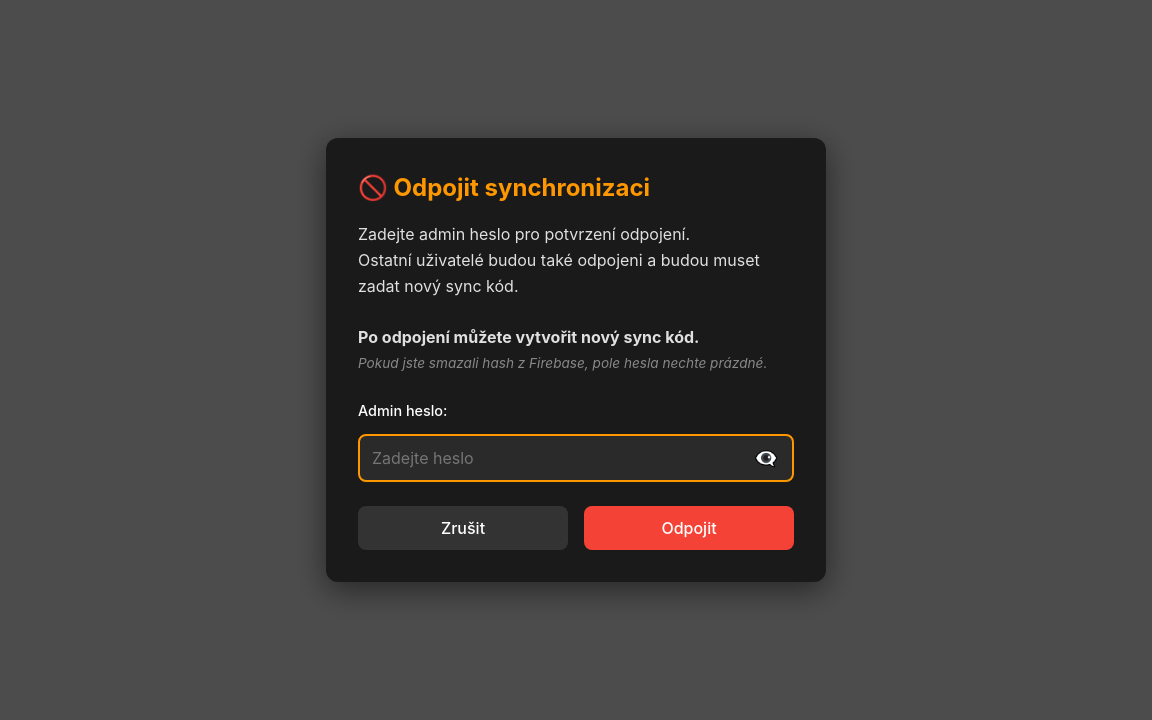
Scenario: DisconnectModal › should disable buttons while processing
This screenshot has width=1152, height=720.
Type "admin123" into the password field with placeholder "Zadejte heslo". click: [576, 458]
box: [358,434,794,482]
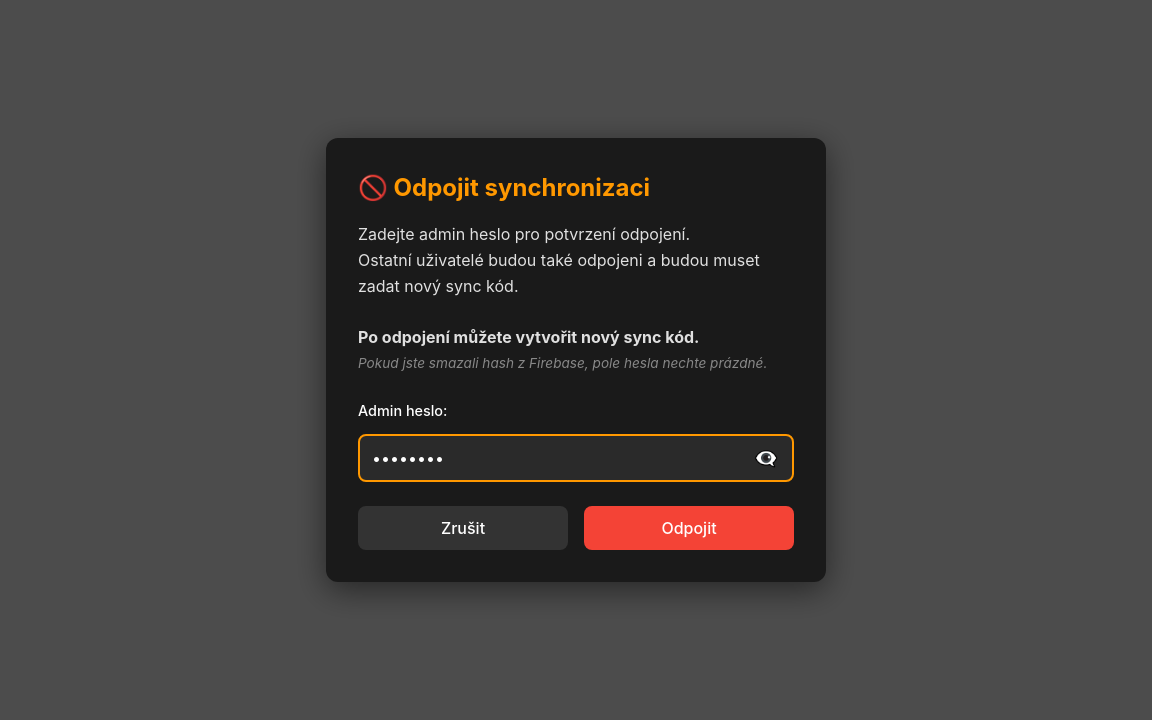
Click the button "Odpojit". click: [689, 528]
box: [584,506,794,550]
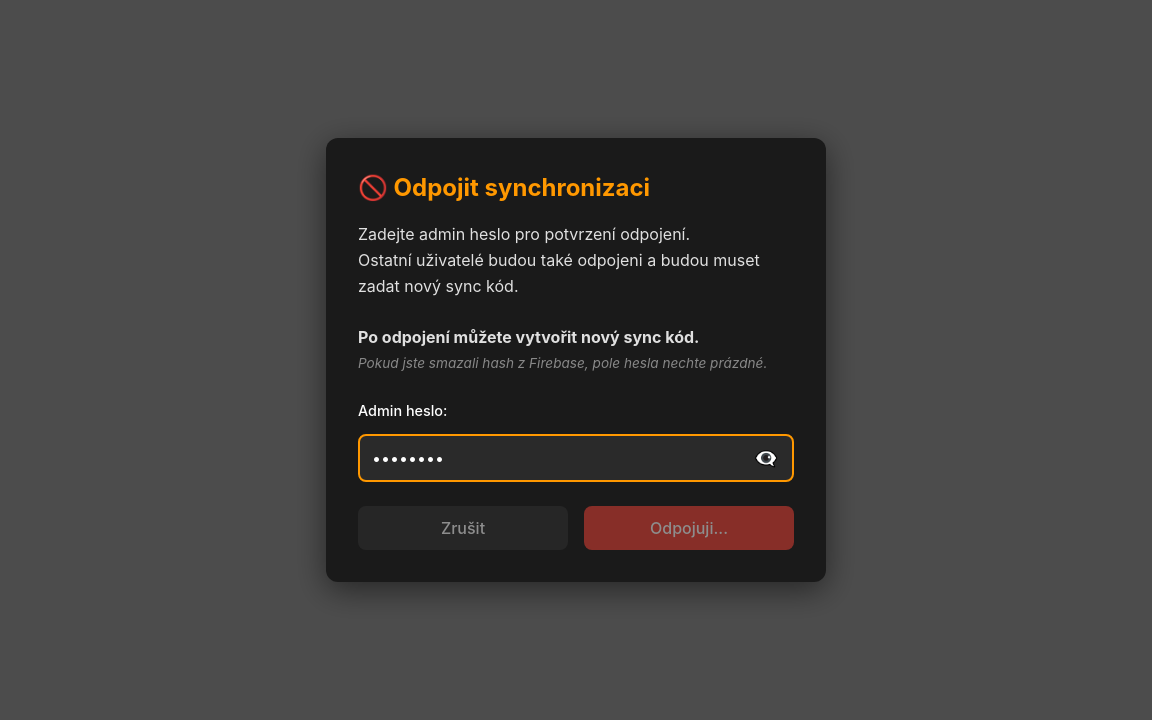
Result: the button "Odpojuji..." is disabled at [584,506,794,550]
Result: the button "Zrušit" is disabled at [358,506,568,550]
